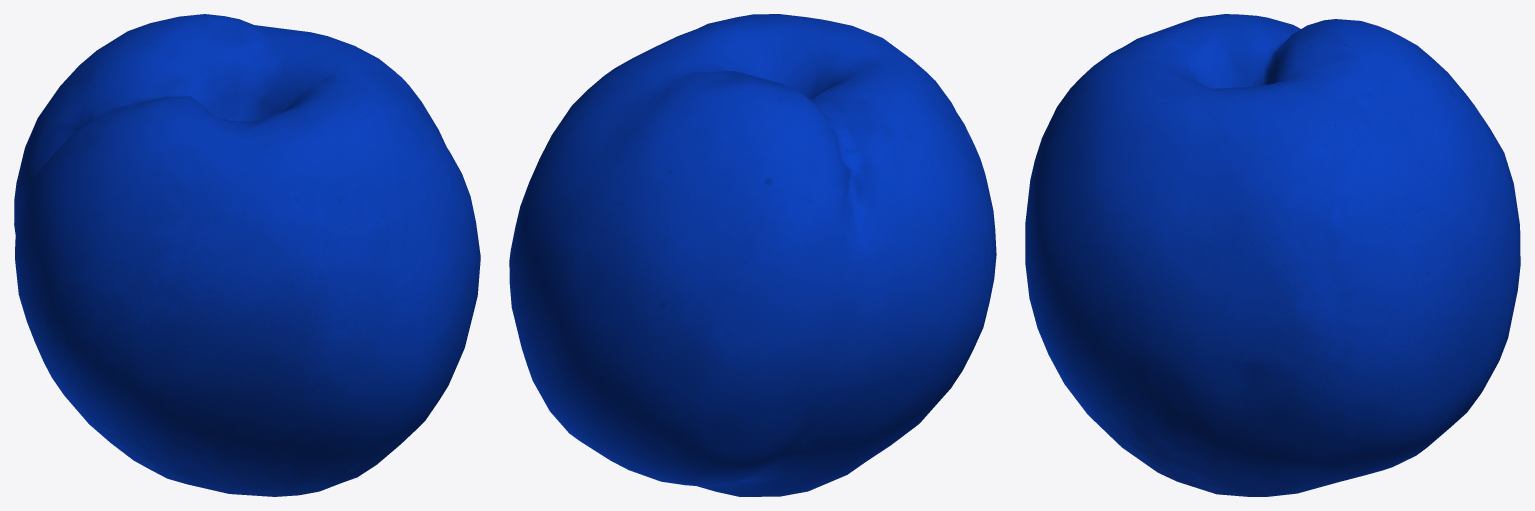
The model's file is peach.glb.
The picture shows the model from 3 angles, left to right: view 1: azimuth 30°, elevation 25°; view 2: azimuth 150°, elevation 25°; view 3: azimuth 270°, elevation 25°; orthographic projection.
Visible parts, largest first — view 1: Peaach; view 2: Peaach; view 3: Peaach.
Part boxes in pixels (<box>): Peaach: <box>14,14,480,496</box>; Peaach: <box>509,14,996,496</box>; Peaach: <box>1025,14,1520,496</box>.
Size of the model in its own units: 0.9953 by 0.9956 by 1.04.
1 material, 1 textured.
